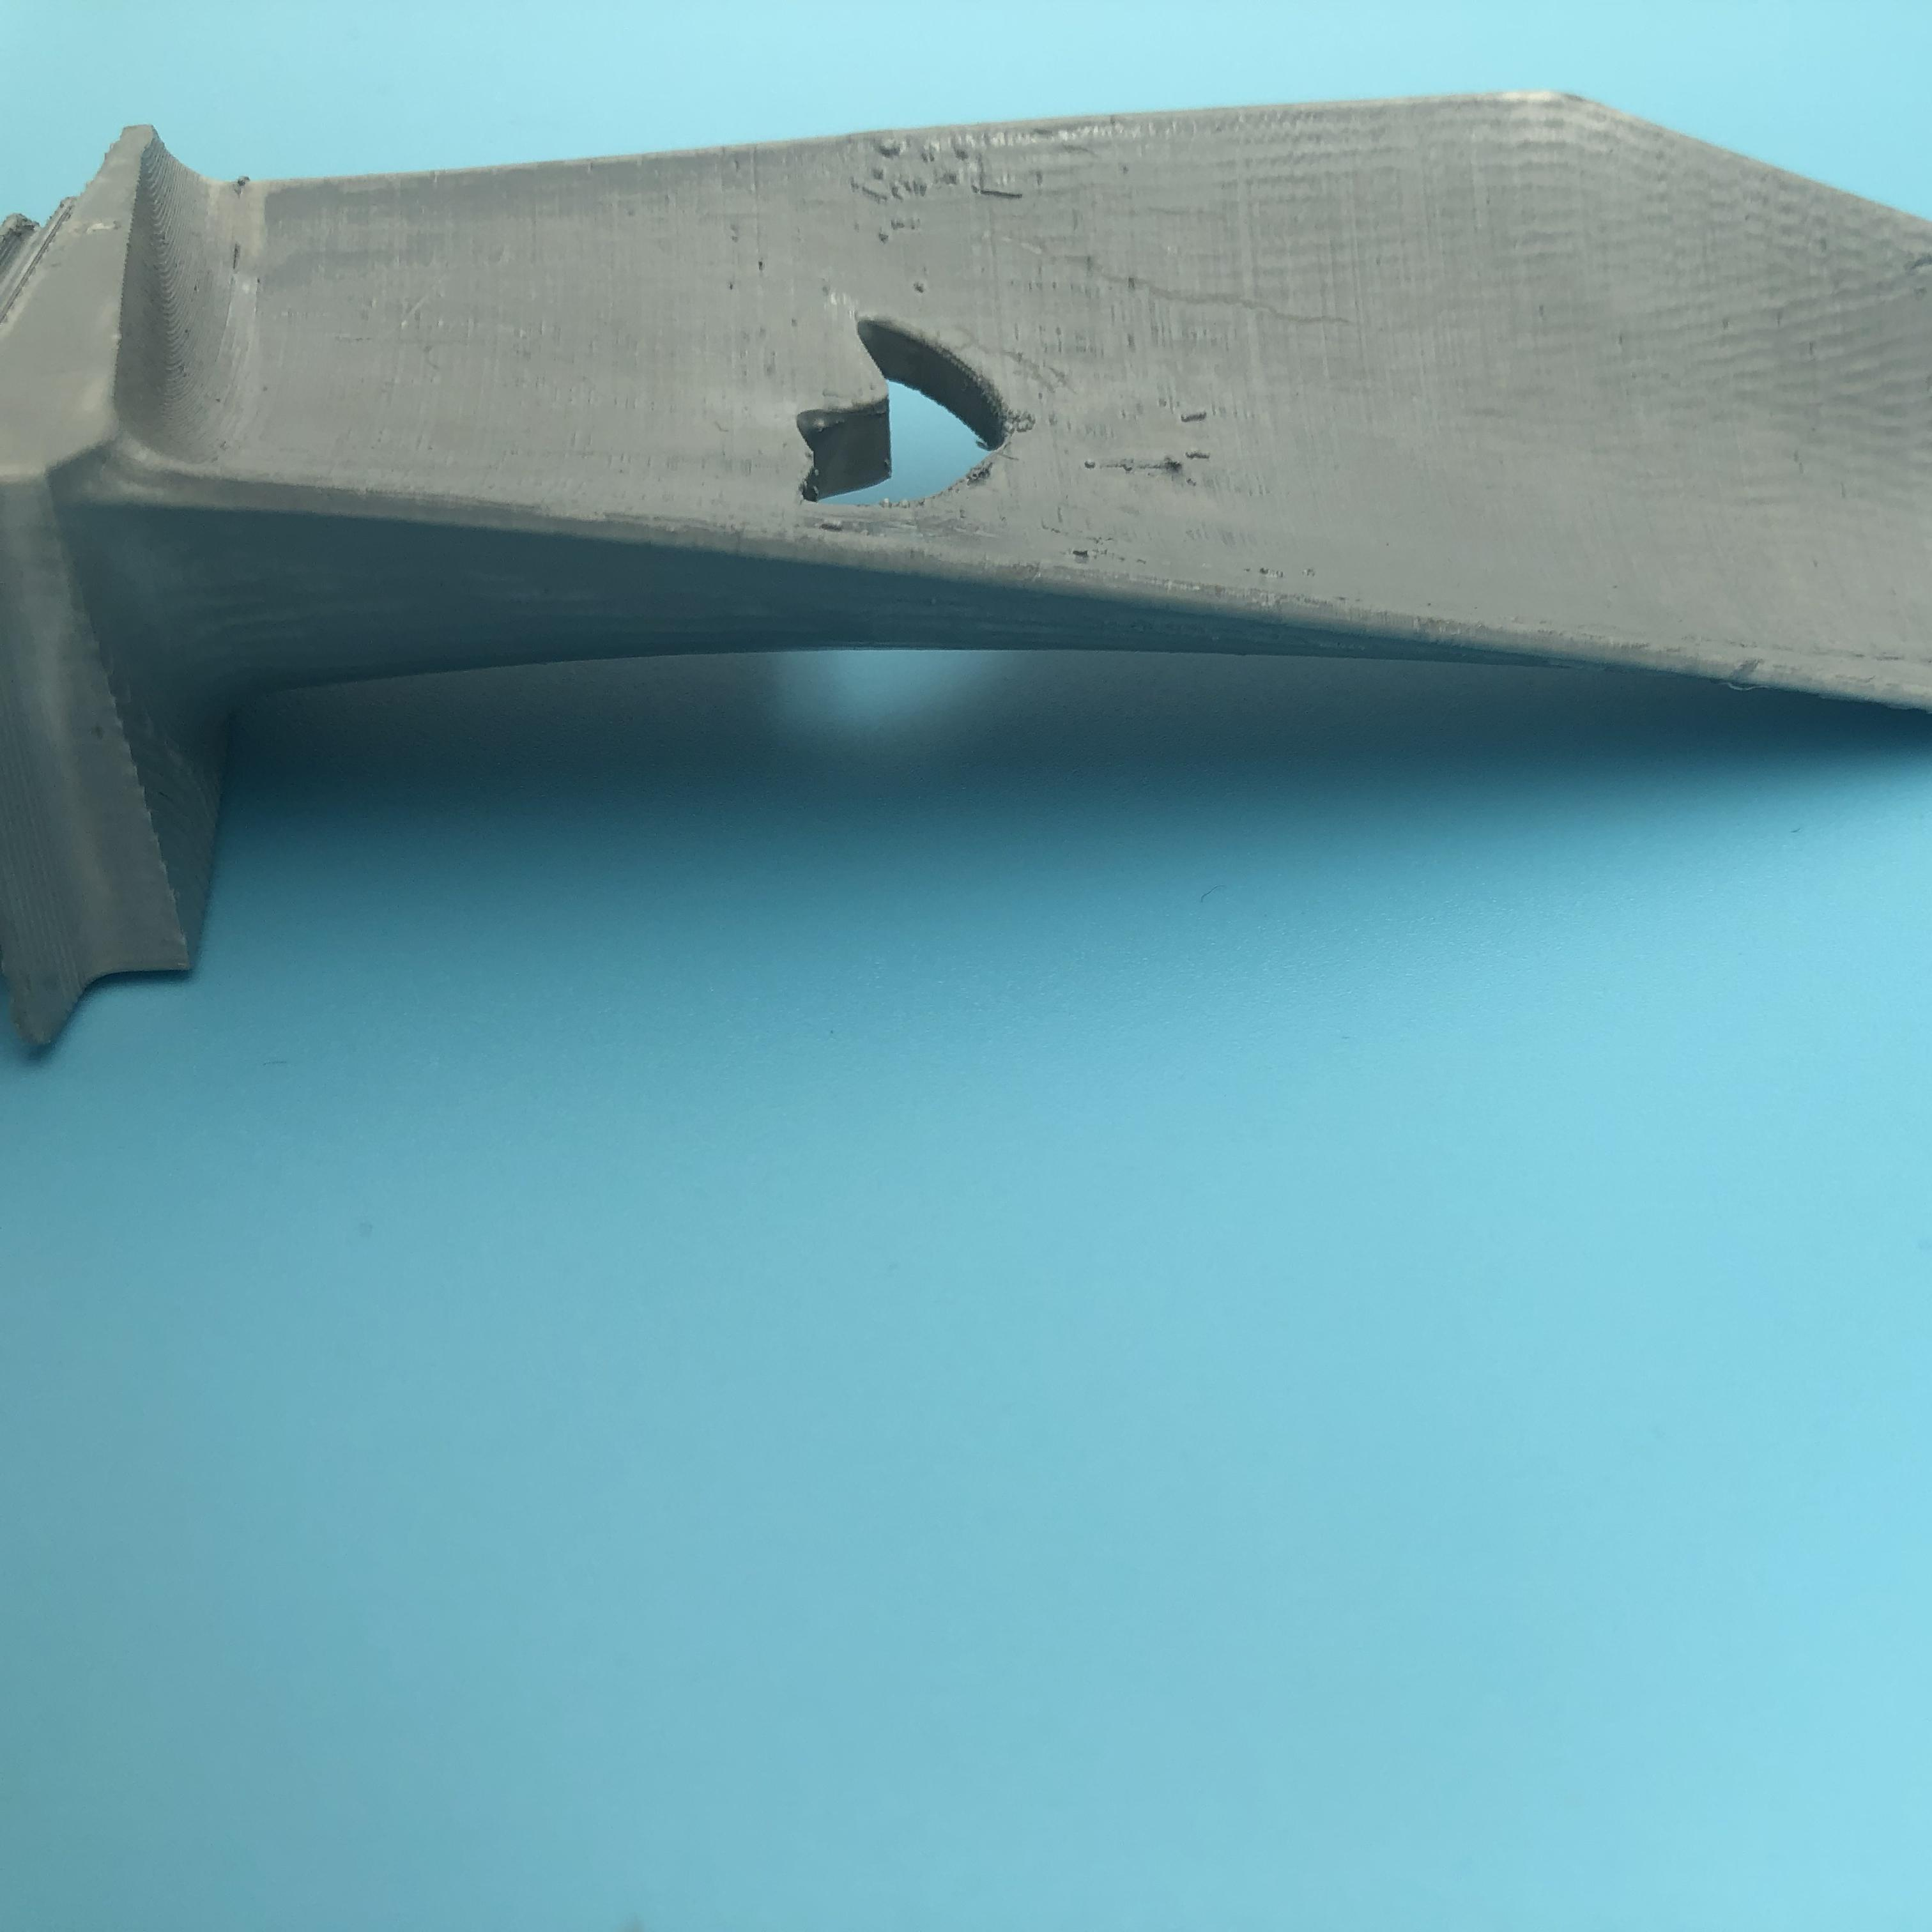breakdown: (768, 306, 1074, 527)
